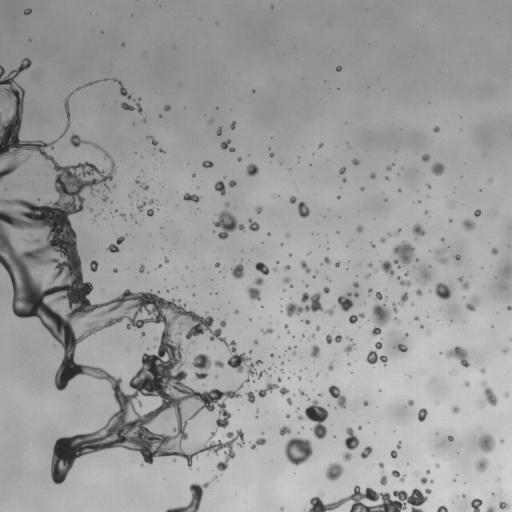droplet: (380, 240, 418, 276), (297, 399, 328, 439), (213, 210, 244, 239), (284, 437, 312, 465), (257, 377, 288, 397), (444, 346, 469, 367), (366, 341, 387, 364), (480, 381, 497, 405), (247, 277, 263, 300), (325, 462, 343, 481), (337, 292, 353, 311), (479, 434, 495, 453), (435, 282, 451, 299), (433, 248, 448, 264), (231, 263, 244, 279), (499, 261, 511, 278), (475, 457, 488, 472), (255, 262, 269, 275), (466, 296, 478, 311), (298, 201, 309, 217), (220, 139, 234, 151), (431, 163, 444, 175), (470, 498, 482, 511), (214, 181, 225, 195), (246, 164, 258, 176), (412, 224, 424, 236), (360, 446, 372, 458), (326, 334, 341, 343), (248, 219, 259, 231), (462, 219, 474, 230), (458, 277, 469, 289), (310, 344, 319, 357), (418, 408, 427, 421), (398, 293, 407, 305), (279, 426, 291, 435), (246, 391, 255, 402), (397, 344, 407, 352), (499, 501, 509, 509), (90, 260, 97, 271), (202, 160, 212, 167), (380, 475, 387, 485), (437, 505, 447, 511), (421, 154, 429, 161), (451, 406, 459, 413), (390, 450, 397, 458), (147, 207, 153, 216), (229, 180, 236, 187), (289, 196, 296, 203), (474, 209, 481, 216), (356, 225, 363, 232), (230, 121, 236, 129), (324, 256, 330, 264), (282, 277, 290, 283), (325, 309, 333, 315), (286, 397, 292, 405), (486, 506, 495, 511), (352, 159, 359, 165), (255, 206, 261, 213), (423, 273, 430, 279), (376, 292, 382, 299), (420, 477, 427, 483), (216, 127, 221, 135), (396, 441, 401, 449), (164, 105, 170, 111), (433, 126, 439, 132), (339, 167, 345, 173), (102, 195, 108, 201), (491, 248, 497, 254), (323, 287, 329, 293), (416, 289, 422, 295), (24, 9, 31, 14), (395, 228, 400, 235), (139, 265, 144, 272), (328, 363, 333, 370), (408, 399, 413, 406), (386, 165, 392, 170), (335, 261, 340, 267), (284, 265, 290, 270), (299, 390, 305, 395), (425, 489, 431, 494), (303, 320, 310, 324), (379, 462, 383, 469), (336, 66, 341, 71), (370, 173, 375, 178), (120, 213, 125, 218), (455, 255, 460, 260), (214, 262, 219, 267), (353, 282, 358, 287), (480, 368, 485, 373), (448, 436, 453, 441), (318, 143, 323, 147), (159, 149, 164, 153), (269, 152, 273, 157), (87, 207, 92, 211), (285, 232, 289, 237), (380, 238, 385, 242), (370, 242, 374, 247), (164, 257, 168, 262), (365, 274, 370, 278), (354, 292, 358, 297), (465, 381, 469, 386), (504, 393, 509, 397), (208, 119, 212, 123), (237, 157, 241, 161), (342, 178, 346, 182), (488, 178, 492, 182), (368, 263, 372, 267), (113, 268, 117, 272), (368, 288, 372, 292), (507, 306, 511, 310), (414, 316, 418, 320), (404, 333, 408, 337), (254, 340, 258, 344), (267, 374, 271, 378), (363, 401, 367, 405), (286, 414, 290, 418), (435, 463, 439, 467), (76, 87, 80, 90), (427, 184, 430, 188), (158, 264, 161, 268), (405, 271, 408, 275), (234, 310, 238, 313), (316, 326, 319, 330), (141, 332, 144, 336), (503, 349, 507, 352), (214, 374, 217, 378), (318, 393, 322, 396), (426, 470, 430, 473), (143, 119, 146, 122), (225, 203, 228, 206), (424, 210, 427, 213), (441, 238, 444, 241), (273, 268, 276, 271), (395, 318, 398, 321), (284, 325, 287, 328), (287, 330, 290, 333), (270, 353, 273, 356), (298, 376, 301, 379), (358, 426, 361, 429), (500, 439, 503, 442), (213, 476, 216, 479), (280, 508, 283, 511), (103, 78, 107, 80), (192, 174, 195, 176), (361, 187, 363, 190), (337, 196, 340, 198), (267, 233, 270, 235), (290, 284, 292, 287), (420, 325, 423, 327), (288, 347, 291, 349), (292, 352, 295, 354), (462, 495, 465, 497), (122, 43, 124, 45), (253, 90, 255, 92), (386, 177, 388, 179), (399, 189, 401, 191), (131, 215, 133, 217), (449, 219, 451, 221), (336, 231, 338, 233), (289, 253, 291, 255), (305, 284, 307, 286), (303, 334, 305, 336), (294, 345, 296, 347), (249, 350, 251, 352), (281, 370, 283, 372), (316, 374, 318, 376), (307, 398, 309, 400), (173, 459, 175, 461), (497, 478, 499, 480), (431, 480, 433, 482)
ligament: (0, 61, 270, 481), (306, 485, 427, 511), (166, 482, 208, 511), (285, 292, 323, 317), (371, 303, 397, 336), (343, 427, 359, 461), (328, 385, 346, 408), (113, 78, 131, 98), (107, 236, 124, 252), (137, 198, 155, 211), (121, 102, 142, 113), (65, 92, 73, 119), (344, 337, 354, 354), (251, 438, 266, 449), (392, 470, 405, 482), (183, 193, 200, 202), (349, 313, 364, 323), (135, 179, 148, 190), (300, 260, 310, 273), (398, 277, 411, 286), (146, 135, 157, 145), (261, 328, 273, 334), (86, 80, 98, 85), (309, 333, 315, 339), (94, 214, 98, 219)
